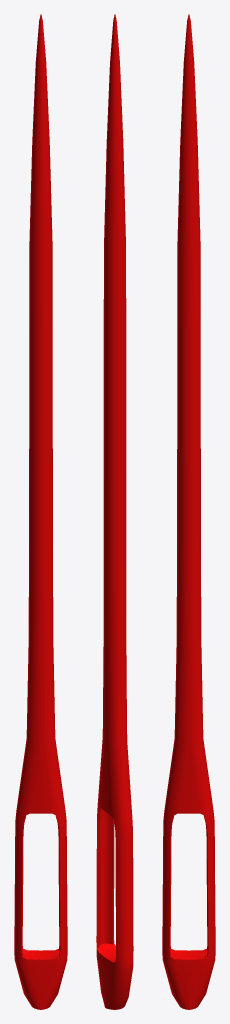
The model's file is Needle_LP.fbx.
3 views of the same model, side by side, from view 1: azimuth 90°, elevation 25°; view 2: azimuth 210°, elevation 25°; view 3: azimuth 270°, elevation 25° (orthographic).
Parts seen in each view (by area): view 1: Needle_LP; view 2: Needle_LP; view 3: Needle_LP.
Boxes of the visible parts, x1,y1,x2,y2 form: Needle_LP: [14, 14, 67, 1009]; Needle_LP: [96, 14, 133, 1009]; Needle_LP: [162, 14, 215, 1009].
Size of the model in its own units: 0.0611 by 2.99 by 0.1457.
